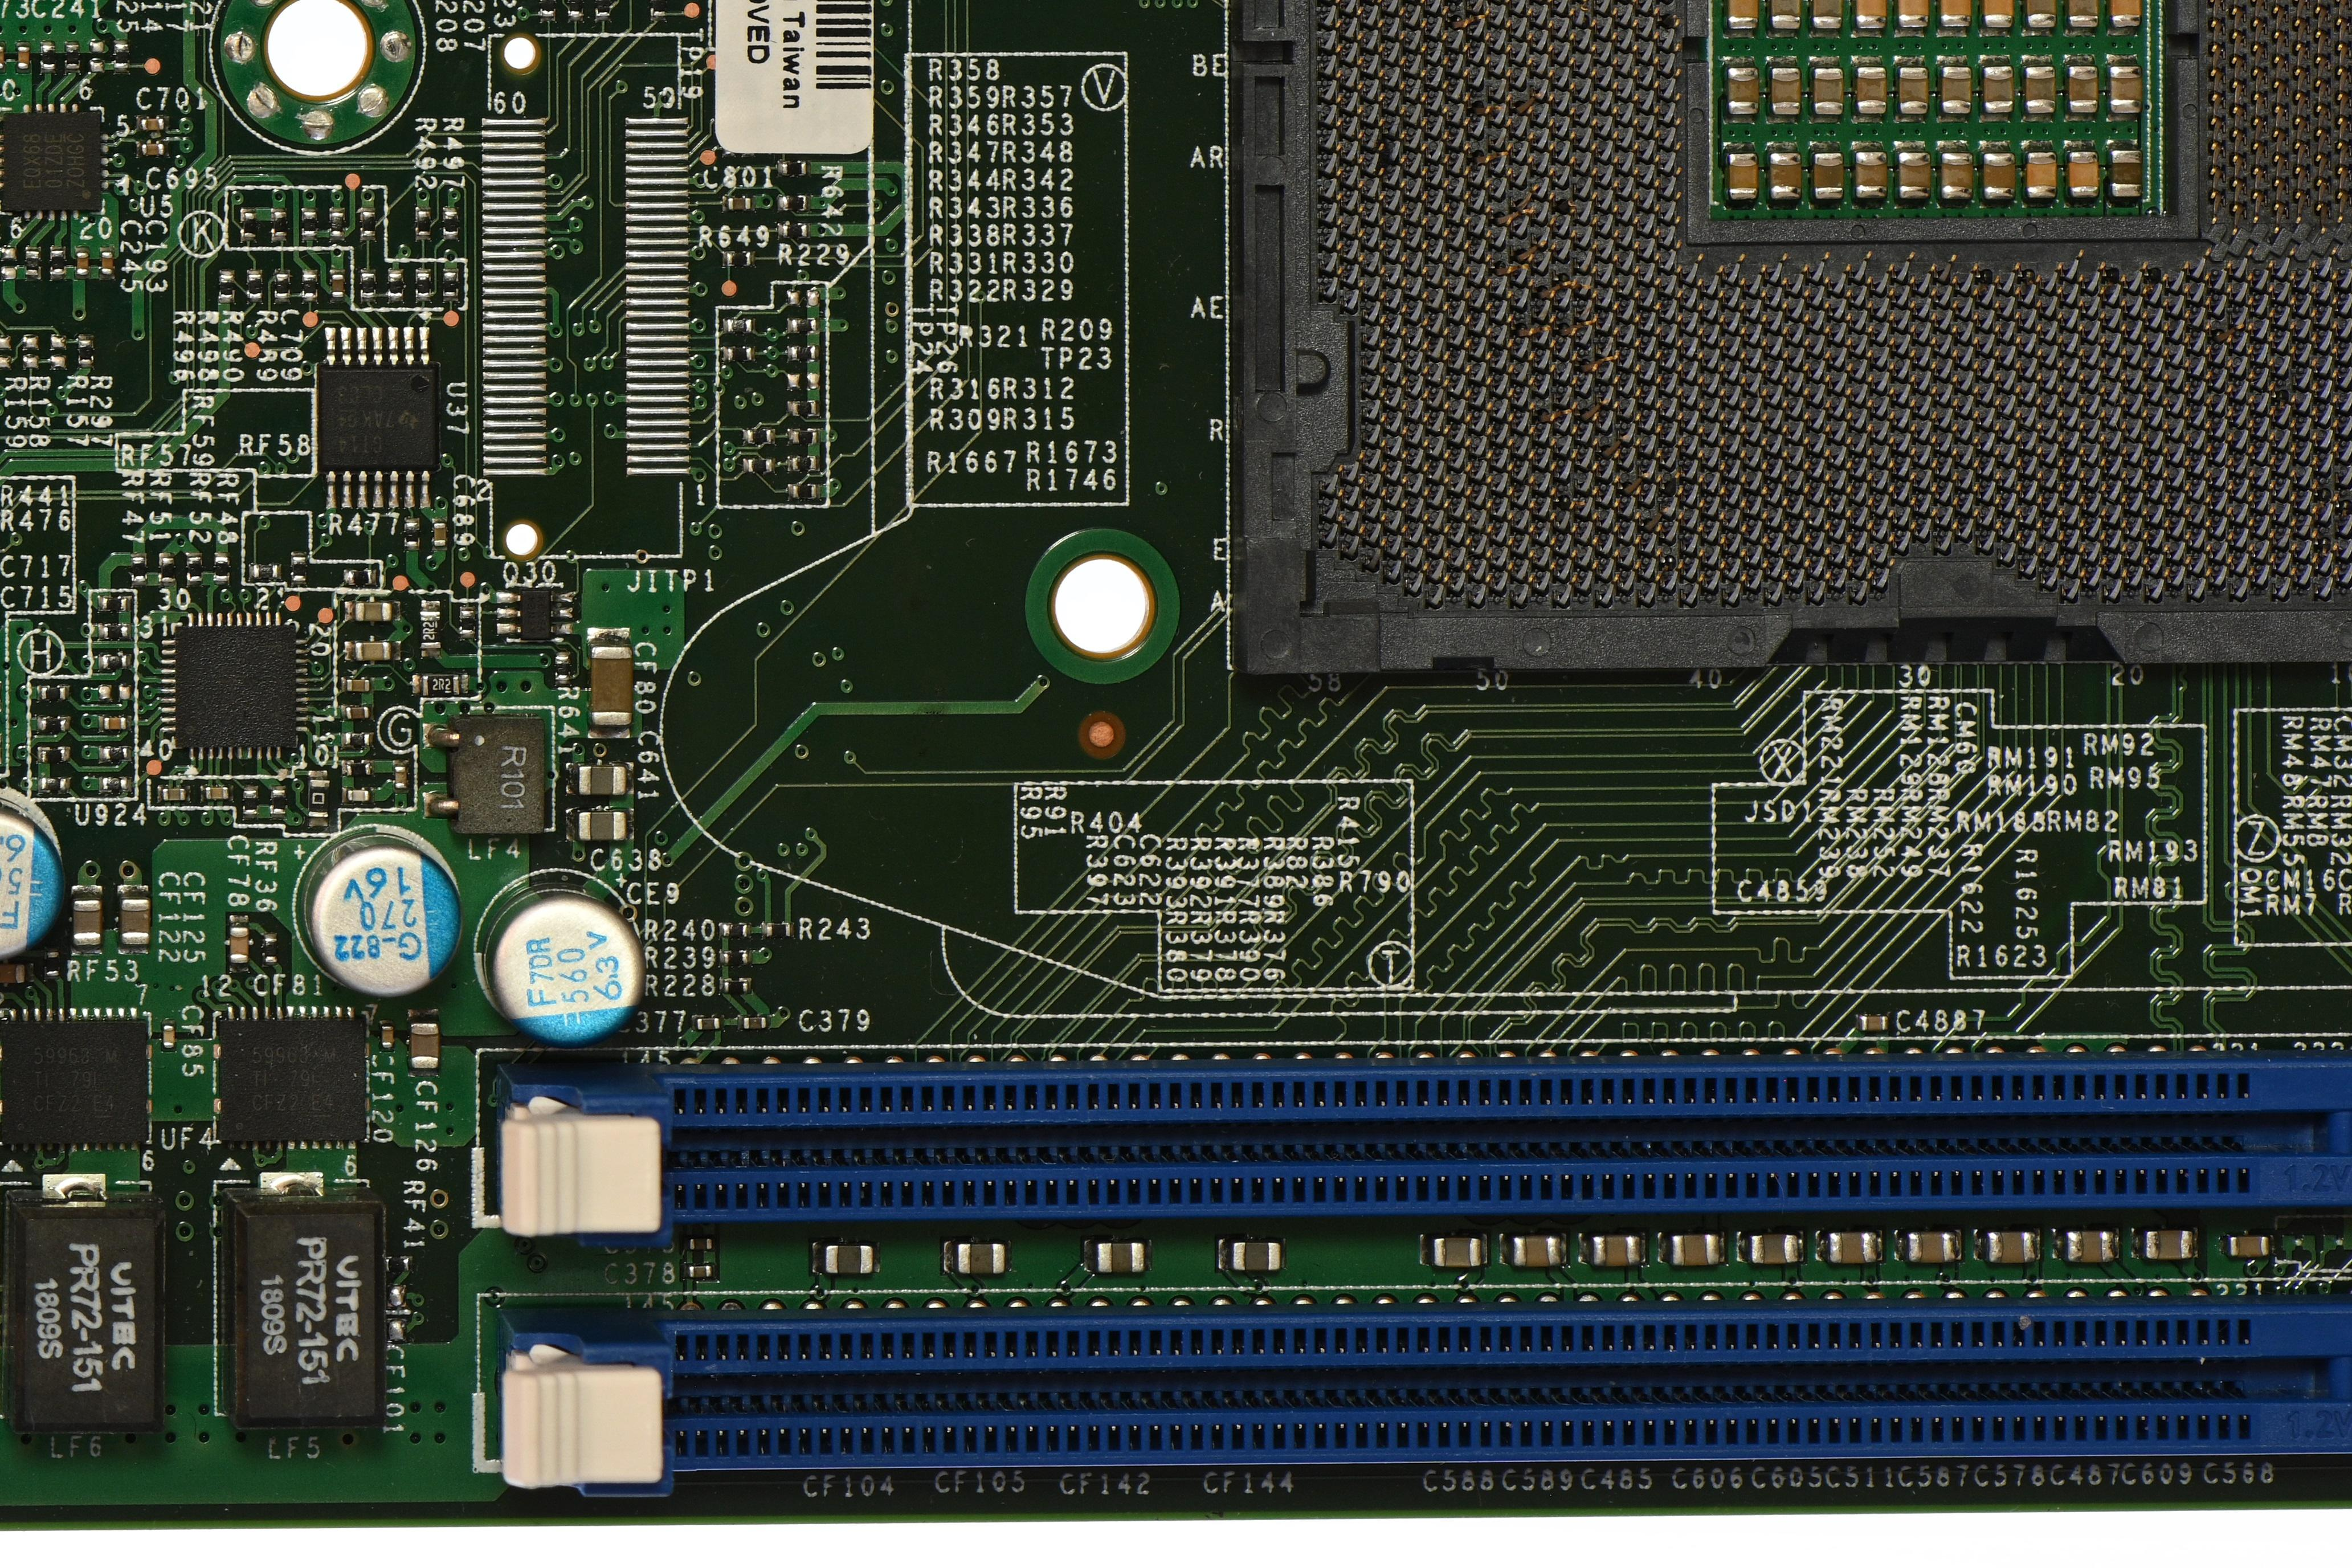ICs: (215, 1017, 367, 1144), (0, 1017, 149, 1146), (173, 623, 301, 747), (313, 359, 441, 476)
capacitors: (487, 889, 648, 1050), (301, 838, 462, 998), (0, 803, 70, 964), (584, 642, 637, 728), (1852, 147, 1890, 203), (1937, 61, 1976, 117), (2021, 61, 2060, 117), (1092, 1239, 1150, 1276), (1724, 149, 1762, 203), (1810, 149, 1848, 203), (1724, 63, 1762, 117), (1810, 63, 1848, 117), (1979, 61, 2018, 116), (821, 1241, 877, 1278), (2065, 145, 2102, 201), (1768, 149, 1804, 205), (1939, 149, 1976, 205), (2065, 61, 2102, 117), (1853, 61, 1890, 117), (1895, 61, 1932, 117), (1229, 1237, 1283, 1274), (2063, 1227, 2117, 1264), (1510, 1232, 1565, 1269), (1589, 1232, 1643, 1269), (1825, 1229, 1879, 1265), (1747, 1230, 1801, 1267), (2109, 145, 2146, 200), (1895, 149, 1932, 203), (2023, 147, 2060, 201), (1981, 149, 2018, 203), (2107, 61, 2144, 116), (1768, 63, 1804, 117), (574, 808, 630, 844), (70, 894, 105, 949), (117, 894, 152, 949), (954, 1241, 1008, 1276), (1430, 1234, 1484, 1269), (1670, 1232, 1724, 1267), (1984, 1229, 2039, 1264), (1904, 1229, 1958, 1264), (576, 763, 628, 798), (2144, 1227, 2196, 1262), (408, 1019, 441, 1071), (1724, 0, 1762, 33), (1852, 0, 1890, 33), (2226, 1232, 2271, 1260), (1808, 0, 1846, 32), (1937, 0, 1976, 32), (2023, 0, 2061, 32), (1979, 0, 2018, 32), (1768, 0, 1804, 32), (1895, 0, 1932, 32), (2107, 0, 2146, 30), (2065, 0, 2103, 30), (352, 599, 394, 623), (352, 639, 394, 663), (226, 924, 250, 966), (1855, 1013, 1892, 1034), (0, 961, 30, 985), (72, 249, 91, 278), (343, 676, 373, 695), (738, 1013, 768, 1033), (159, 1022, 178, 1050), (14, 42, 32, 72), (98, 247, 116, 277), (329, 271, 347, 301), (723, 194, 752, 212), (431, 520, 448, 549), (159, 786, 189, 803), (100, 714, 130, 731), (693, 1015, 723, 1033), (686, 1235, 716, 1253), (138, 140, 166, 157), (343, 703, 371, 721), (203, 784, 231, 801), (686, 1262, 714, 1279), (380, 1020, 396, 1050), (140, 116, 166, 133), (392, 763, 408, 789), (345, 788, 371, 803), (0, 42, 7, 72)
inductors: (222, 1193, 392, 1428), (7, 1197, 175, 1431), (427, 710, 549, 835)
resistors: (418, 672, 462, 698), (416, 607, 443, 651), (306, 777, 331, 819), (259, 933, 280, 968), (75, 336, 94, 369), (721, 921, 751, 942), (240, 208, 259, 238), (439, 208, 459, 238), (413, 270, 432, 299), (439, 268, 459, 298), (359, 270, 378, 299), (385, 271, 404, 301), (327, 208, 347, 238), (359, 208, 378, 238), (299, 271, 318, 301), (21, 247, 40, 277), (47, 247, 66, 277), (721, 949, 751, 968), (763, 921, 793, 940), (240, 788, 259, 817), (551, 653, 570, 682), (130, 555, 149, 584), (212, 553, 229, 584), (37, 42, 56, 70), (112, 42, 131, 70), (413, 208, 432, 236), (457, 607, 476, 635), (186, 555, 205, 583), (100, 774, 128, 793), (100, 651, 128, 670), (38, 774, 66, 793), (271, 208, 289, 238), (299, 208, 317, 238), (273, 270, 290, 299), (217, 271, 235, 301), (245, 271, 262, 301), (250, 562, 280, 579), (159, 555, 177, 584), (100, 744, 130, 761), (100, 623, 130, 640), (38, 747, 68, 765), (779, 159, 808, 177), (789, 399, 819, 416), (347, 567, 373, 586), (63, 42, 81, 70), (721, 978, 749, 996), (270, 788, 287, 816), (345, 759, 373, 777), (343, 730, 371, 747), (100, 595, 128, 612), (38, 684, 66, 702), (38, 716, 66, 733), (746, 457, 774, 474), (779, 193, 807, 210), (780, 222, 808, 240), (789, 343, 817, 361), (791, 483, 819, 500), (725, 250, 752, 268), (725, 317, 752, 334), (402, 520, 418, 549), (290, 553, 306, 583), (789, 429, 819, 445), (746, 427, 772, 445), (791, 455, 817, 473), (725, 347, 752, 362), (789, 317, 817, 332), (537, 0, 556, 21), (565, 0, 584, 19), (593, 0, 612, 19), (649, 0, 669, 19)
transistors: (514, 586, 555, 642)
